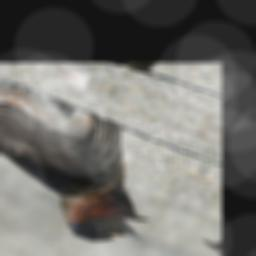Swallow: (0, 84, 188, 256)
